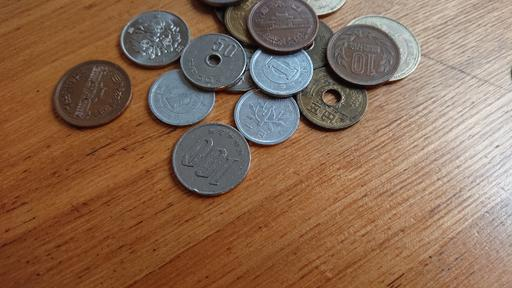100yen: (173, 124, 250, 195), (121, 12, 189, 67)
10yen: (53, 61, 132, 128), (327, 25, 400, 87), (248, 2, 318, 52)
1yen: (234, 86, 299, 144), (148, 69, 214, 126), (249, 41, 312, 96)
50yen: (180, 33, 248, 91)
5yen: (296, 66, 367, 131)
